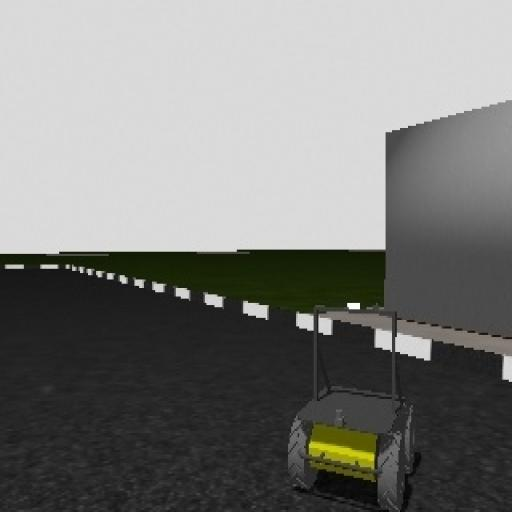huskya200: (286, 291, 423, 512)
